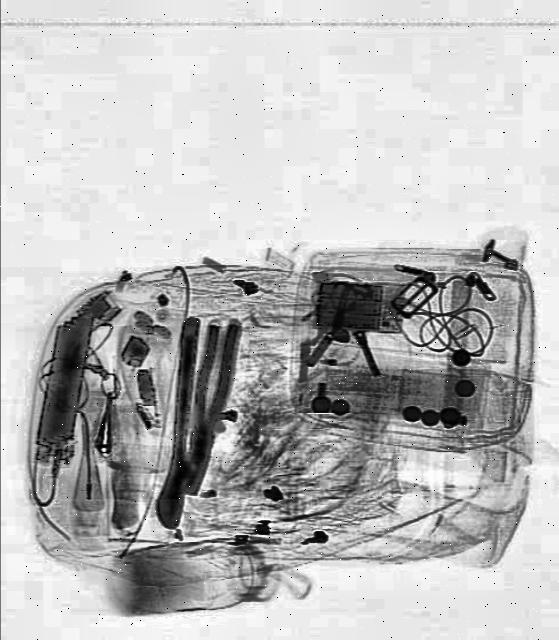Pliers: (172, 316, 244, 498)
Wrench: (154, 314, 208, 530)
